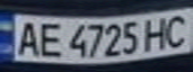2: (103, 20, 127, 57)
4: (63, 20, 90, 58)
5: (121, 18, 145, 56)
7: (84, 20, 106, 58)
A: (9, 18, 42, 56)
C: (160, 11, 193, 48)
E: (33, 19, 66, 58)
H: (139, 15, 172, 52)
